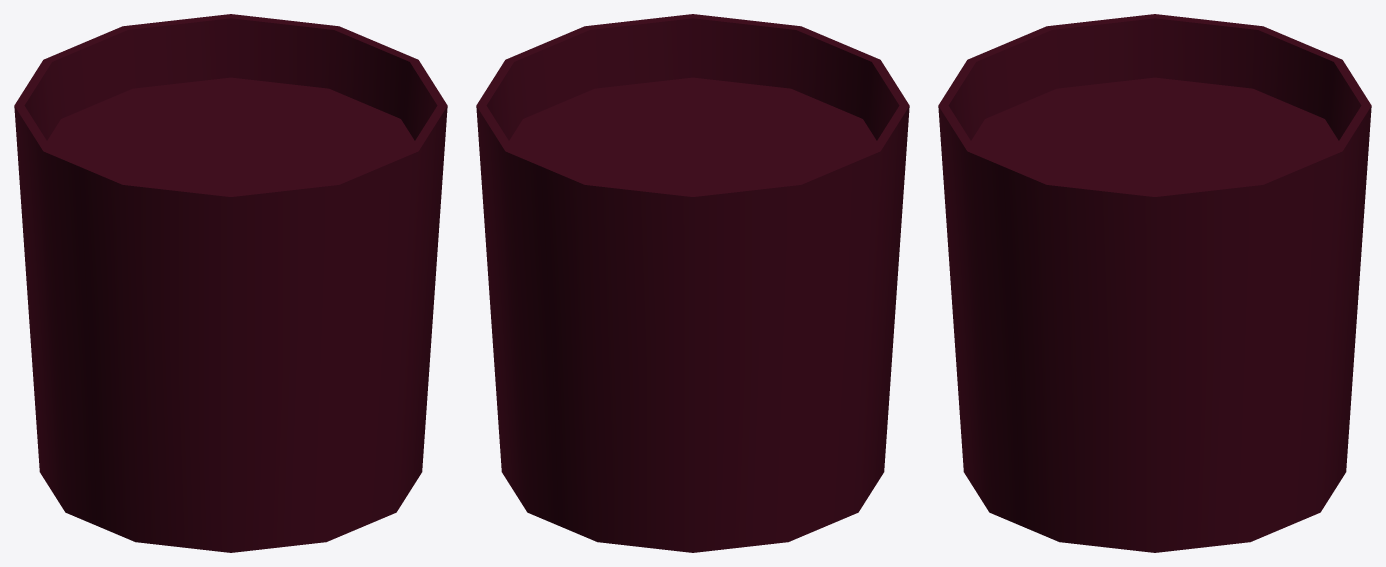
The model's file is Recipe_FishermansPunch_v01.fbx.
3 views of the same model, side by side, from view 1: azimuth 30°, elevation 25°; view 2: azimuth 150°, elevation 25°; view 3: azimuth 270°, elevation 25° (orthographic).
Parts seen in each view (by area): view 1: Rest_Bar_Set04_RumGlass_01, Rest_Bar_Set04_RumGlass_Liquid; view 2: Rest_Bar_Set04_RumGlass_01, Rest_Bar_Set04_RumGlass_Liquid; view 3: Rest_Bar_Set04_RumGlass_01, Rest_Bar_Set04_RumGlass_Liquid.
Part boxes in pixels (x1,y1,x2,y2): Rest_Bar_Set04_RumGlass_01: [14, 14, 447, 552]; Rest_Bar_Set04_RumGlass_Liquid: [47, 77, 414, 192]; Rest_Bar_Set04_RumGlass_01: [476, 14, 909, 552]; Rest_Bar_Set04_RumGlass_Liquid: [509, 77, 876, 192]; Rest_Bar_Set04_RumGlass_01: [938, 14, 1371, 552]; Rest_Bar_Set04_RumGlass_Liquid: [971, 77, 1338, 192].
Size of the model in its own units: 2.19 by 2.05 by 2.19.
